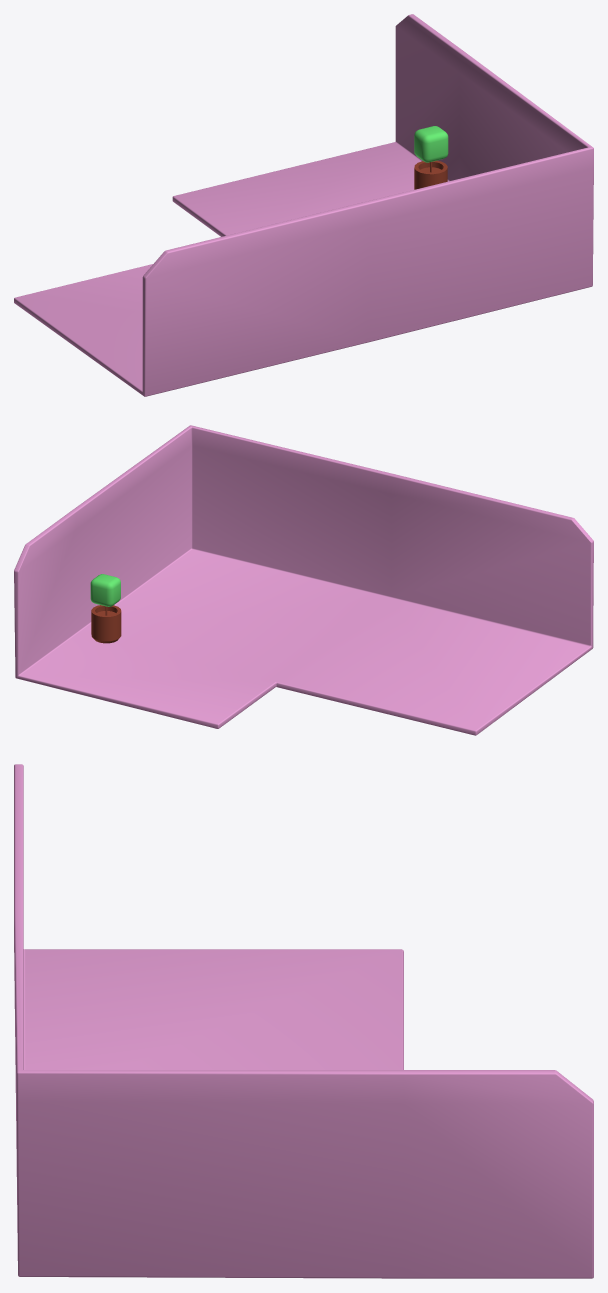
File: sample-room.gltf
3 renders of one model, top to bottom at view 1: azimuth 30°, elevation 25°; view 2: azimuth 150°, elevation 25°; view 3: azimuth 270°, elevation 25°, orthographic. The views are drawn at different scales.
Visible parts, largest first — view 1: Plane, Cube, Cylinder; view 2: Plane, Cylinder, Cube; view 3: Plane.
Boxes of the visible parts, x1=… form: Plane: x1=14, y1=14, x2=593, y2=396; Cube: x1=414, y1=126, x2=448, y2=162; Cylinder: x1=414, y1=160, x2=447, y2=189; Plane: x1=14, y1=425, x2=593, y2=735; Cylinder: x1=91, y1=605, x2=121, y2=643; Cube: x1=90, y1=574, x2=120, y2=606; Plane: x1=14, y1=764, x2=593, y2=1278.
Bounding box in the file's own units: 4.05 × 1.22 × 3.05.
